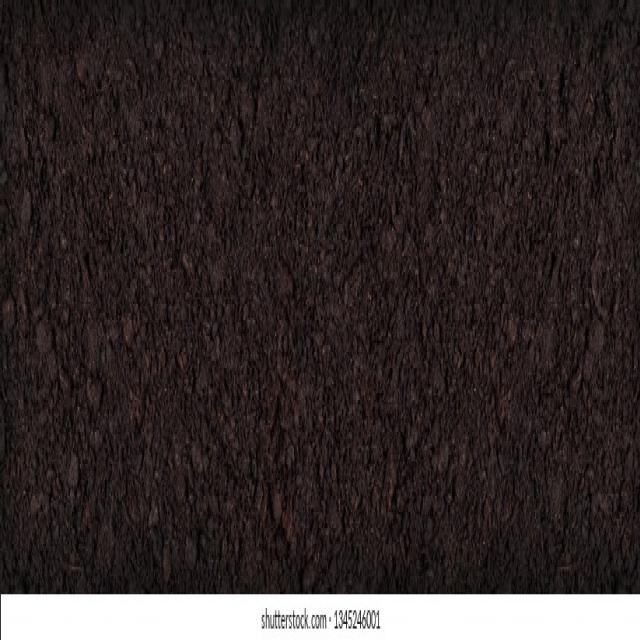Black Soil: (35, 71, 613, 528)
